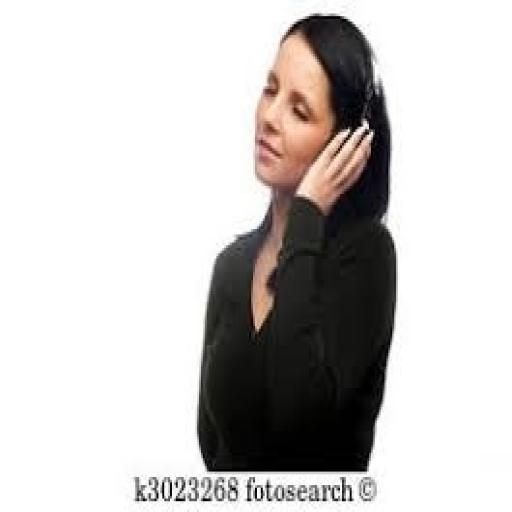listening_to_music: (193, 11, 400, 474)
